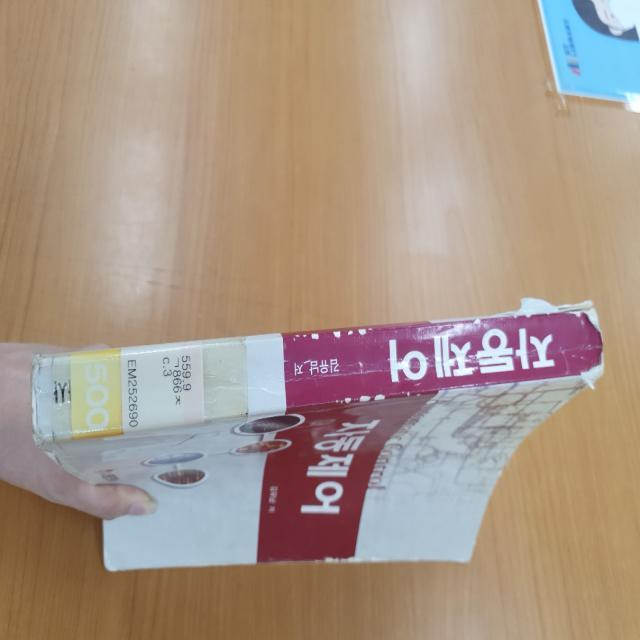Ripped: (488, 296, 597, 317), (579, 360, 608, 392)
Wornout: (335, 393, 387, 406), (29, 429, 56, 450), (331, 327, 374, 340), (40, 448, 63, 468), (29, 352, 46, 378), (585, 318, 604, 340), (291, 332, 320, 344), (401, 388, 423, 401), (471, 316, 484, 329), (513, 315, 534, 321)
